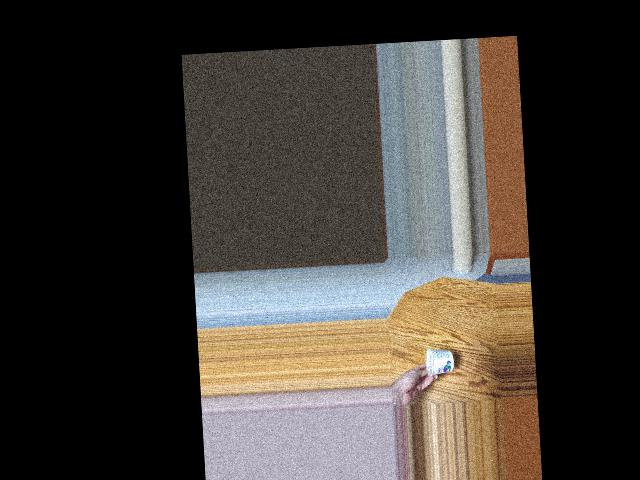cotage: (422, 340, 457, 374)
